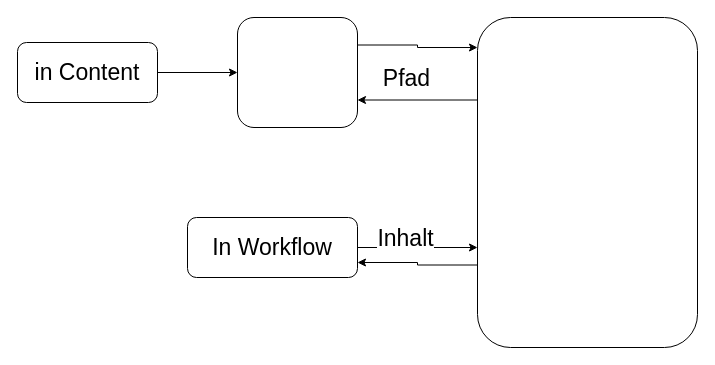
The diagram is 715 pixels wide and 365 high, and some of its shapes have lost their labels. The shapes that lost their labels are listed below. From the top down, each one's centre as x and y in pixels, then its label:
At point (297, 72): "Maske".
At point (587, 182): "Data Source".
